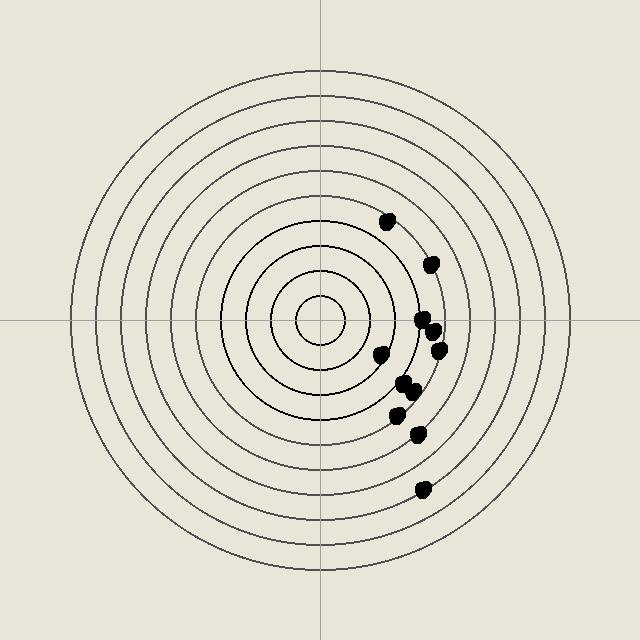vertical_scatter: (428, 340, 448, 360), (412, 479, 432, 499), (420, 254, 440, 274), (376, 211, 396, 231), (392, 373, 412, 393), (407, 424, 427, 444), (422, 321, 442, 341), (411, 309, 431, 329), (386, 405, 406, 425), (402, 381, 422, 401), (370, 344, 390, 364)
